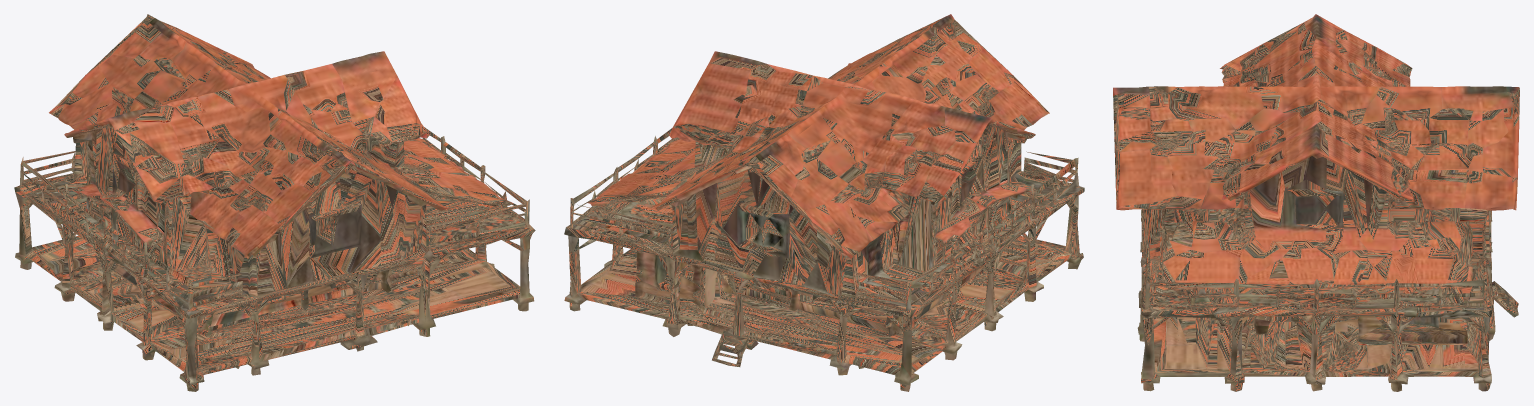
The model's file is bq_rural_house.lod.glb.
3 renders of one model, left to right at view 1: azimuth 30°, elevation 25°; view 2: azimuth 150°, elevation 25°; view 3: azimuth 270°, elevation 25°, orthographic.
Visible parts, largest first — view 1: mesh_node; view 2: mesh_node; view 3: mesh_node.
Part boxes in pixels (x1=…): mesh_node: x1=14, y1=14, x2=535, y2=391; mesh_node: x1=564, y1=14, x2=1084, y2=391; mesh_node: x1=1113, y1=14, x2=1519, y2=391.
Bounding box in the file's own units: 1.9 × 1.11 × 1.89.
Materials: 1 (1 with a texture image).
